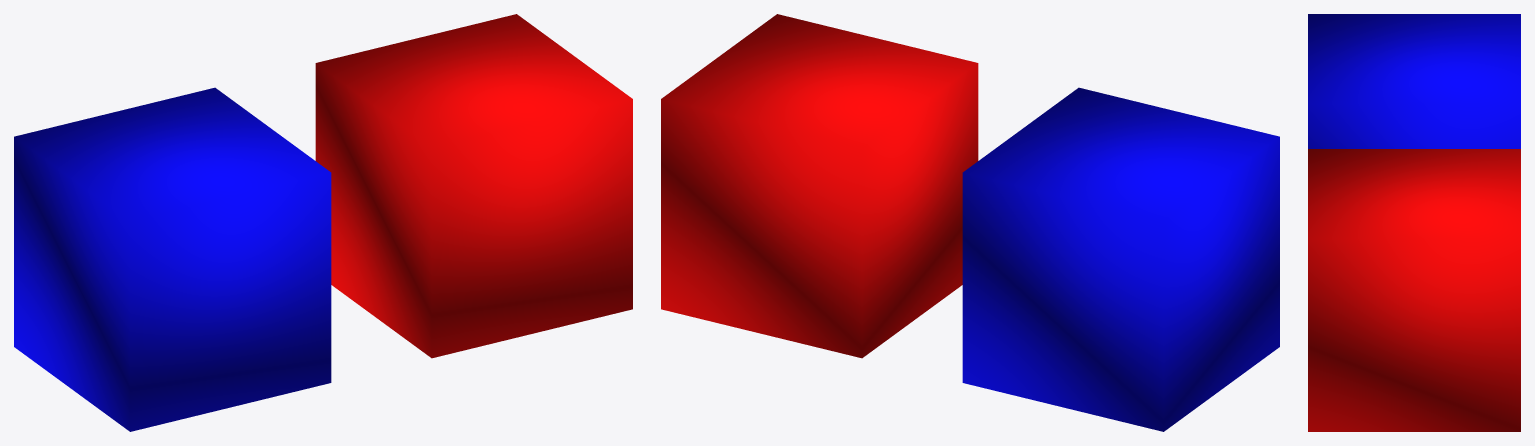
The model's file is model_noanim-v1.glb.
The picture shows the model from 3 angles, left to right: view 1: azimuth 30°, elevation 25°; view 2: azimuth 150°, elevation 25°; view 3: azimuth 270°, elevation 25°; orthographic projection. The views are drawn at different scales.
Size of the model in its own units: 5 by 2 by 2.
